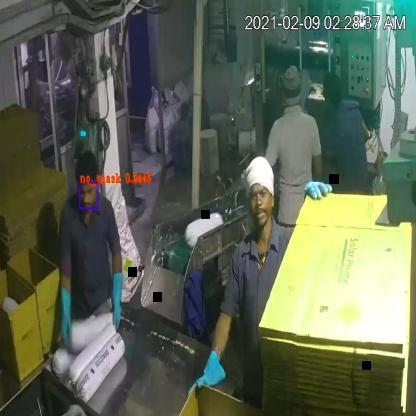glove: (177, 344, 233, 400), (54, 279, 79, 351), (107, 260, 129, 333)
